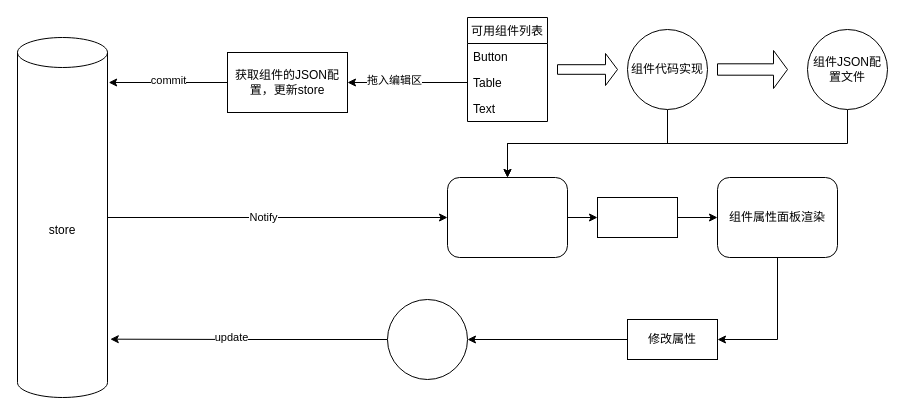
Some shapes in this 905 by 415 pixel diagram are drawn without their labels. Here are the shapes that lost their labels. From the top down, the box of each, then its label:
(446, 176, 568, 258): 组件列表渲染
(596, 196, 678, 238): 选中组件
(386, 298, 468, 380): reducer
